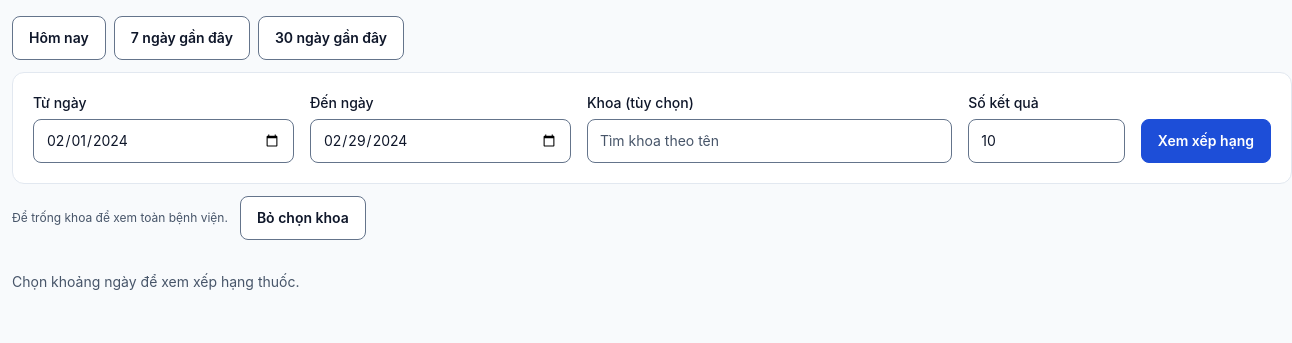
it: TopMedicinesView › rejects invalid rank limit
The image size is (1292, 343).
Clear the number field labelled "Số kết quả" at (1046, 141), box left=968, top=119, right=1125, bottom=163
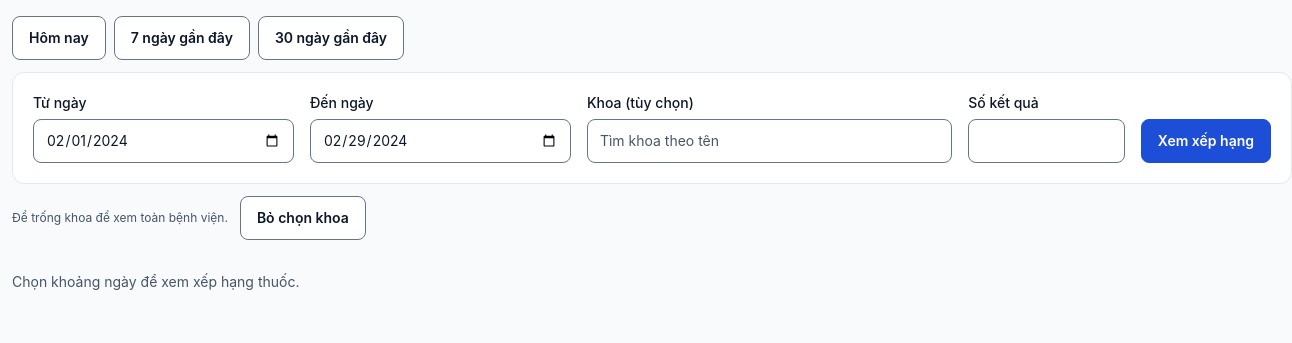
Submit the form labelled "Từ ngày", box left=12, top=72, right=1291, bottom=184
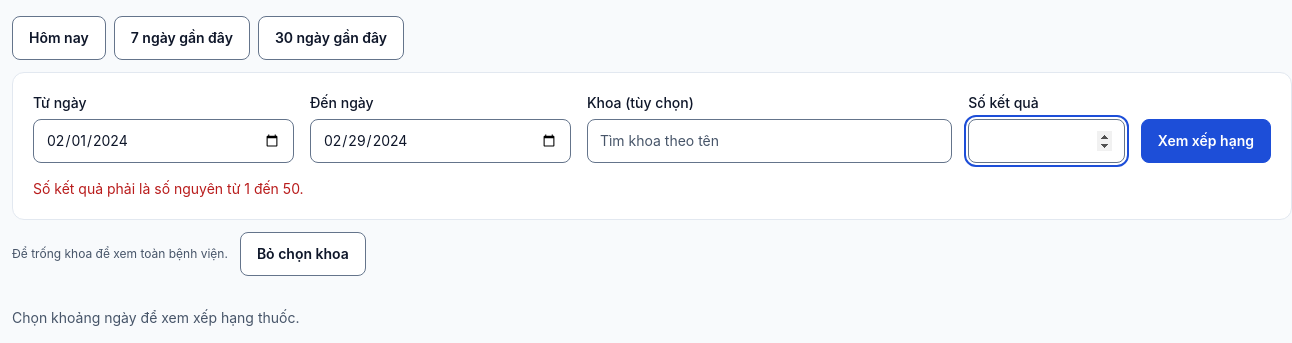
Now the message "Số kết quả phải là số nguyên từ 1 đến 50." is shown, box left=33, top=180, right=304, bottom=197
